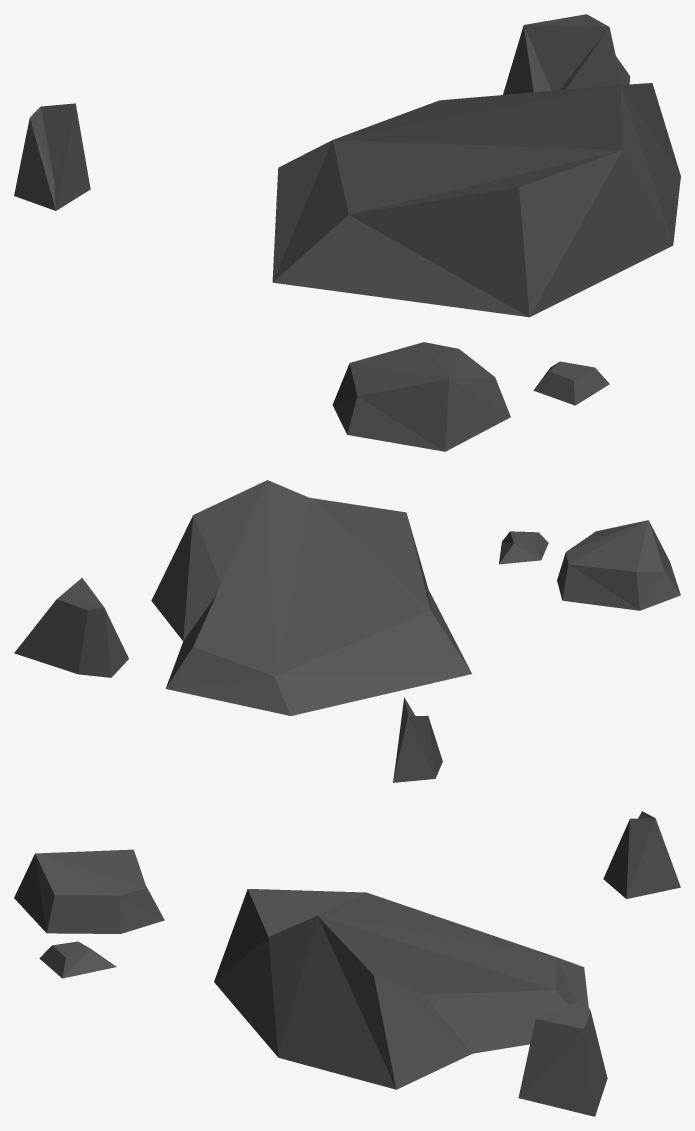
File: Brick_A_01.FBX
The picture shows the model from 3 angles, top to bottom: view 1: azimuth 30°, elevation 25°; view 2: azimuth 150°, elevation 25°; view 3: azimuth 270°, elevation 25°; orthographic projection. The views are drawn at different scales.
Visible parts, largest first — view 1: Brick_A_01; view 2: Brick_A_01; view 3: Brick_A_01.
Boxes of the visible parts, left/top/right/bottom form: Brick_A_01: left=14, top=14, right=680, bottom=451; Brick_A_01: left=14, top=480, right=680, bottom=782; Brick_A_01: left=14, top=811, right=680, bottom=1116.
Bounding box in the file's own units: 1.25 × 0.3077 × 1.44.
